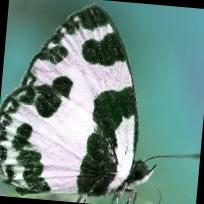butterfly: (0, 5, 150, 196)
